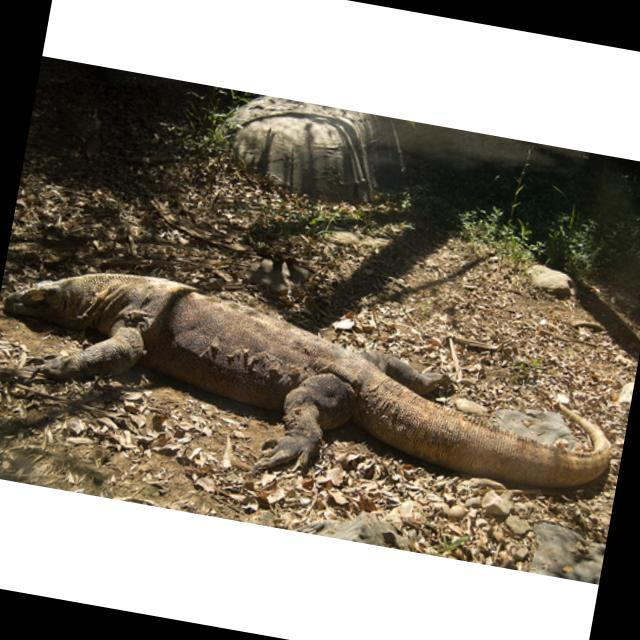KomodoDragon: (0, 248, 632, 534)
